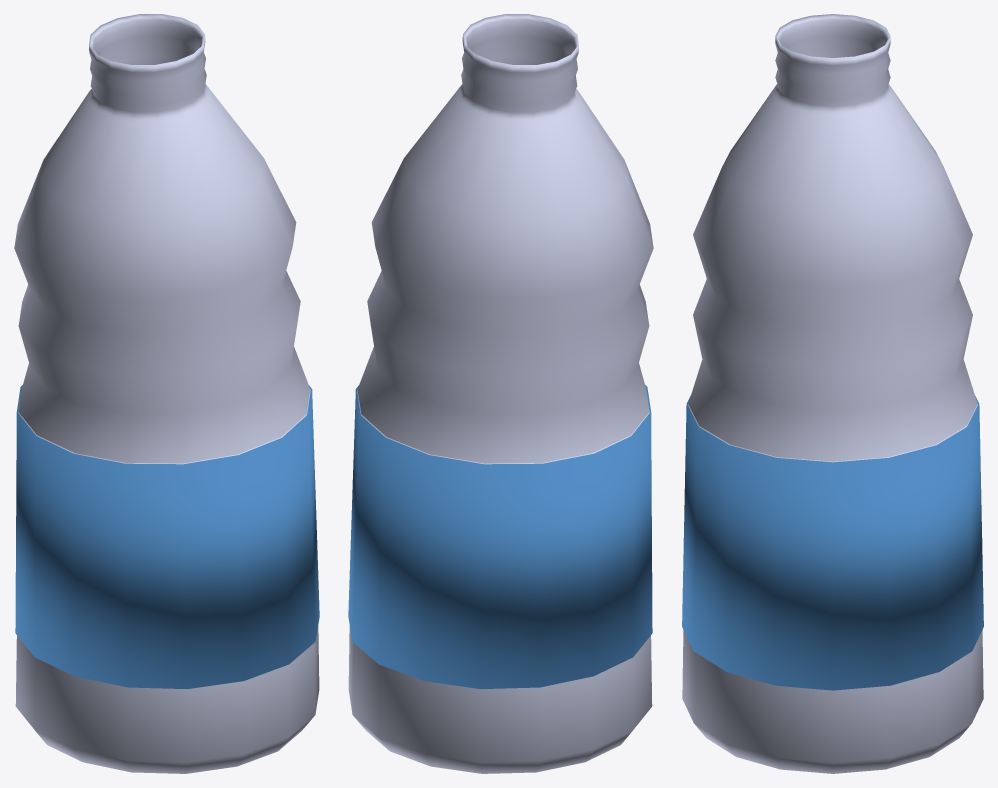
File: WaterBottle.glb
The picture shows the model from 3 angles, left to right: view 1: azimuth 30°, elevation 25°; view 2: azimuth 150°, elevation 25°; view 3: azimuth 270°, elevation 25°; orthographic projection.
Visible parts, largest first — view 1: Bottle; view 2: Bottle; view 3: Bottle.
Part boxes in pixels (box(x1,y1,x2,y2)): Bottle: box(14, 14, 319, 773); Bottle: box(348, 14, 653, 773); Bottle: box(682, 14, 983, 773).
Size of the model in its own units: 0.0988 by 0.2414 by 0.0979.
